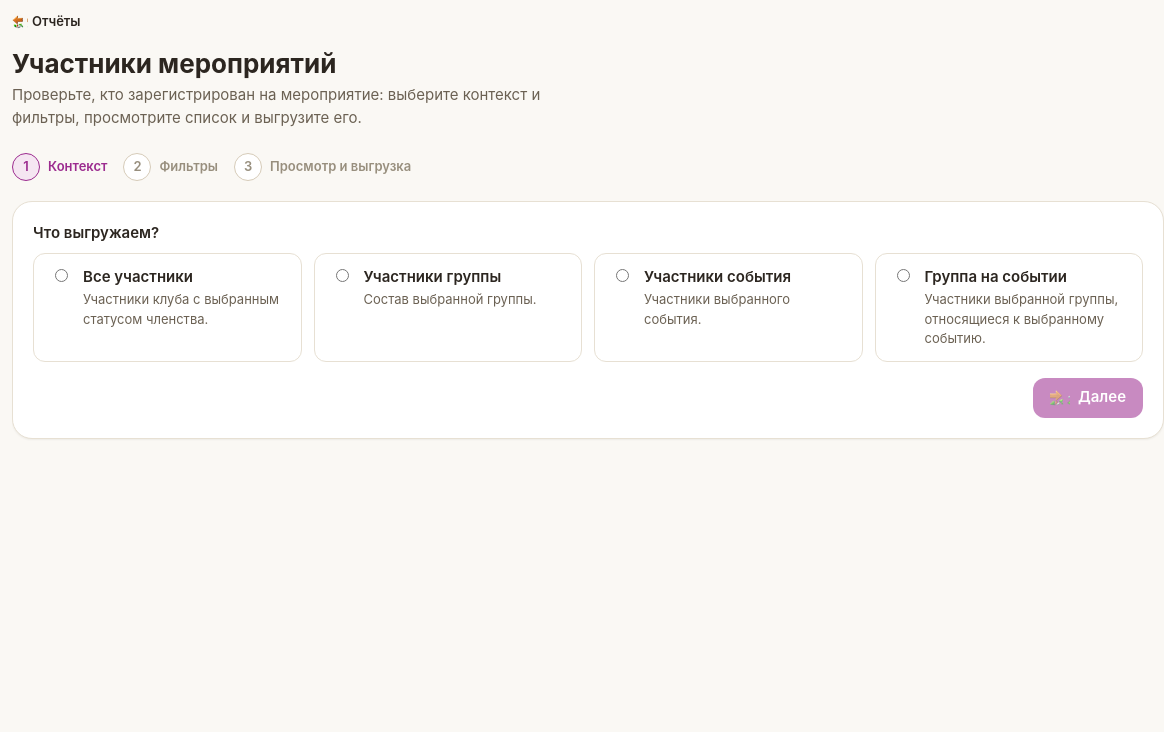
Test: «Участники мероприятий» — preview › sends only the minimum columns the backend offers for a club report, and no Event filters
The width and height of the screenshot is (1164, 732).
Click the radio button labelled "Все участники Участники клуба с выбранным статусом членства.": [62, 275] box x1=55 y1=268 x2=68 y2=282
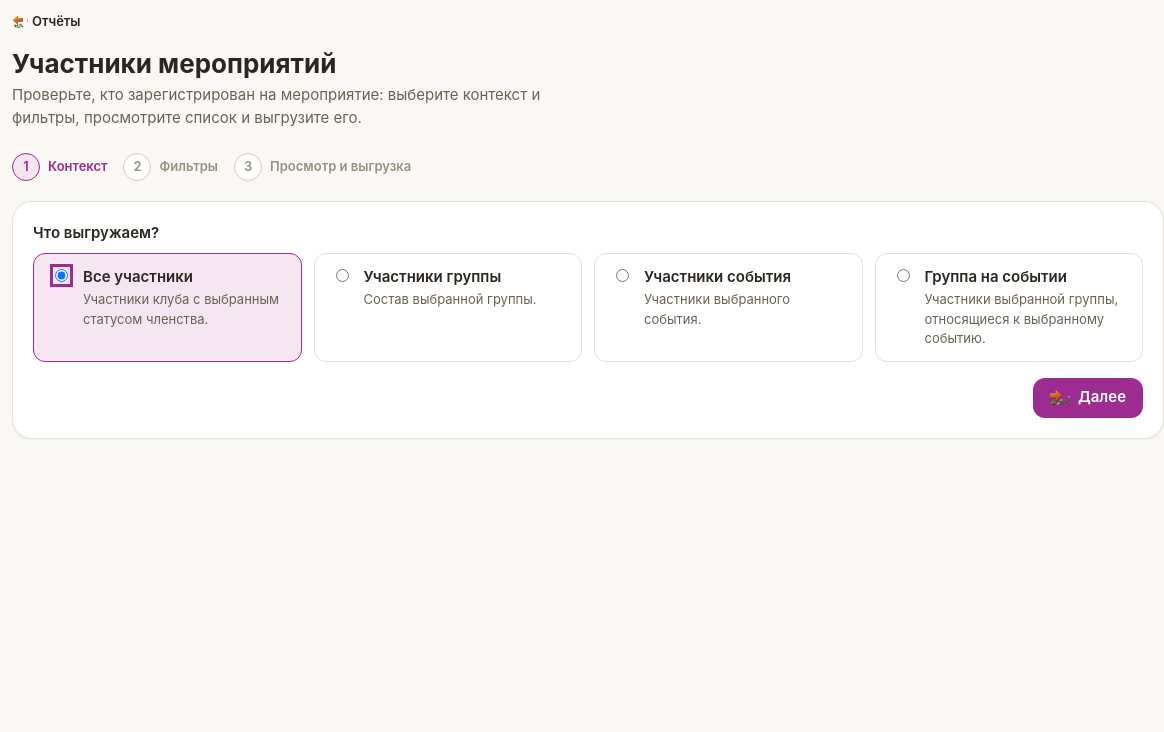
Click the button "Далее": [1088, 398] box x1=1033 y1=378 x2=1143 y2=418
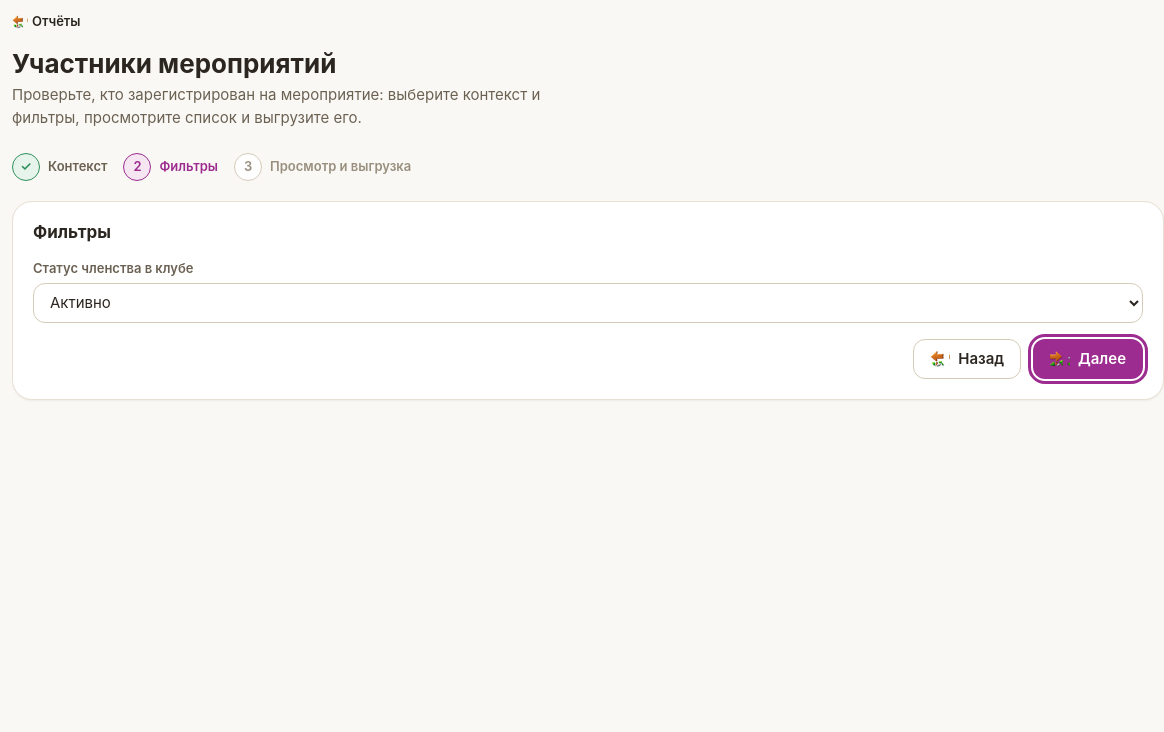
Click the button "Далее": [1088, 359] box x1=1033 y1=339 x2=1143 y2=379
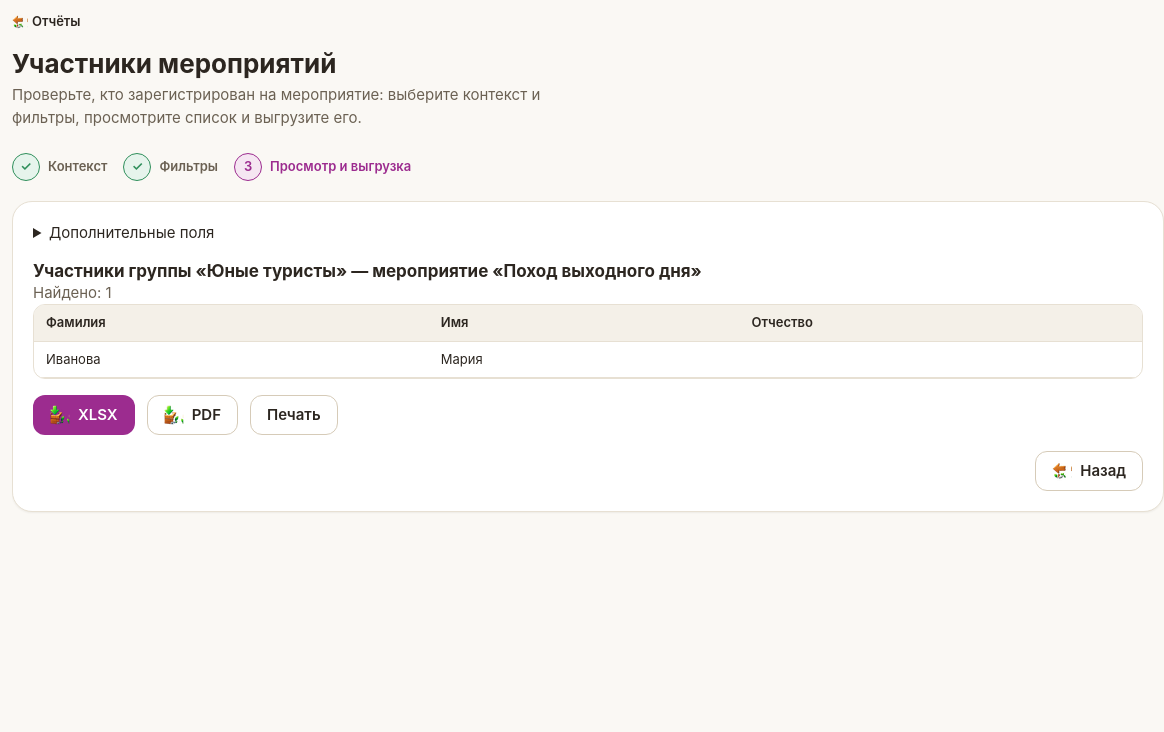
Now the text "Найдено: 1" is shown, box x1=33 y1=283 x2=112 y2=302
